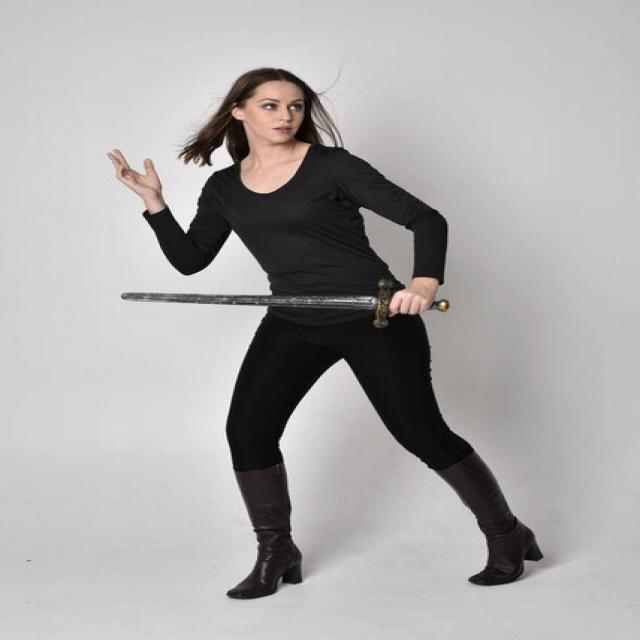long sword: (118, 282, 454, 324)
